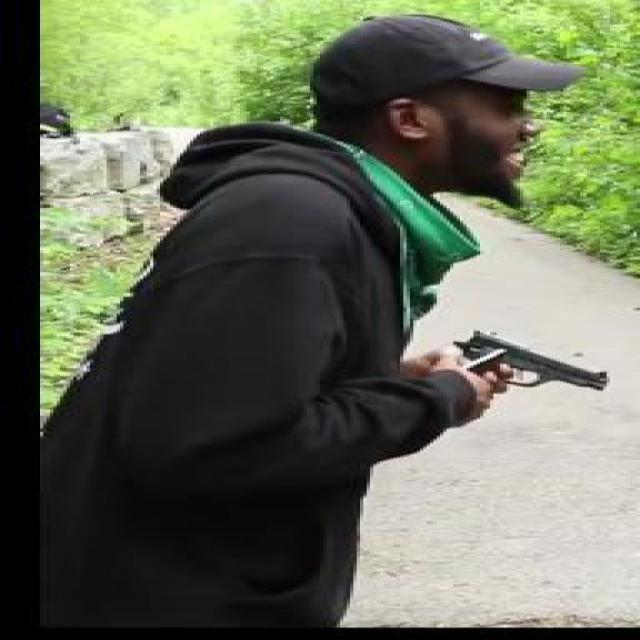weapon: (454, 326, 610, 397)
